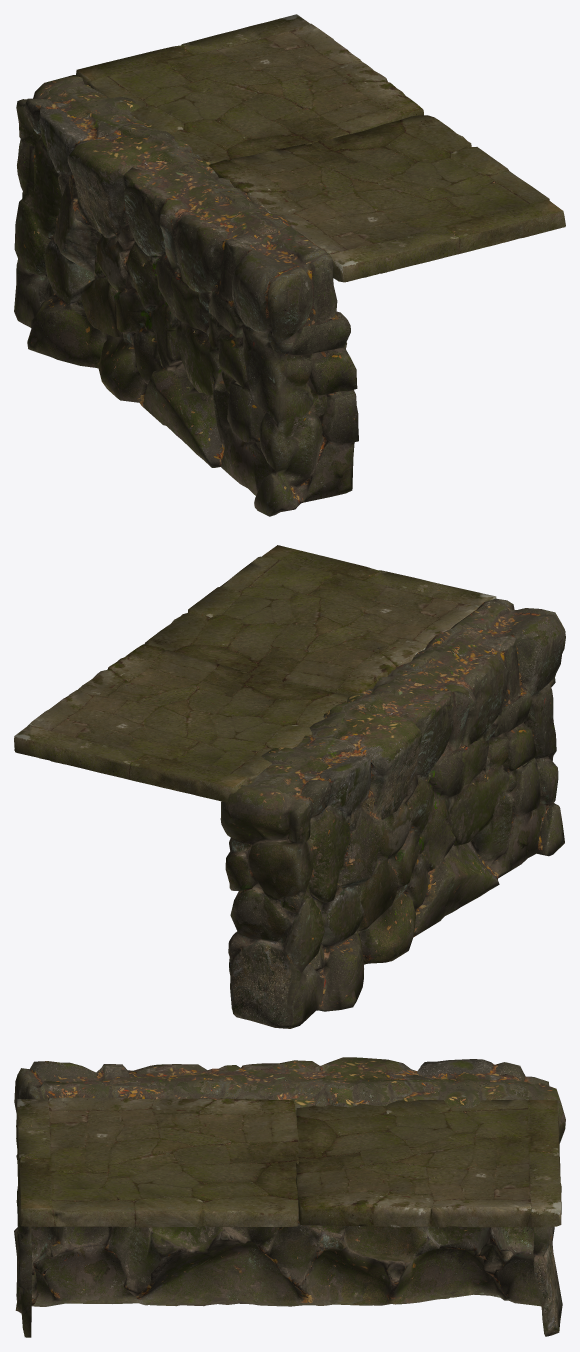
Rendered from wall_mossy_Lod1.fbx.
3 renders of one model, top to bottom at view 1: azimuth 30°, elevation 25°; view 2: azimuth 150°, elevation 25°; view 3: azimuth 270°, elevation 25°, orthographic. The views are drawn at different scales.
Parts seen in each view (by area): view 1: Aset_historical_feudal_japan_L_ulldfgb_LOD0; view 2: Aset_historical_feudal_japan_L_ulldfgb_LOD0; view 3: Aset_historical_feudal_japan_L_ulldfgb_LOD0.
Boxes of the visible parts, <box> form: Aset_historical_feudal_japan_L_ulldfgb_LOD0: <box>14,14,565,516</box>; Aset_historical_feudal_japan_L_ulldfgb_LOD0: <box>14,545,565,1028</box>; Aset_historical_feudal_japan_L_ulldfgb_LOD0: <box>14,1057,565,1337</box>.
Size of the model in its own units: 110 by 83.26 by 167.
